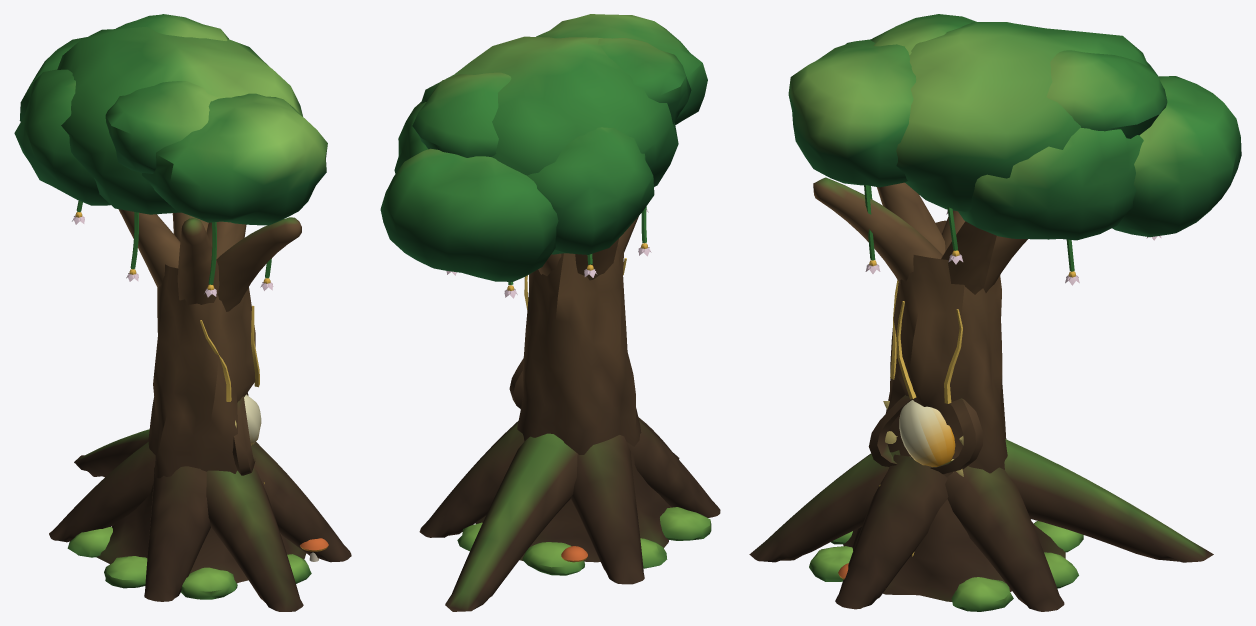
The model's file is Heartroot.fbx.
3 views of the same model, side by side, from view 1: azimuth 30°, elevation 25°; view 2: azimuth 150°, elevation 25°; view 3: azimuth 270°, elevation 25° (orthographic). The views are drawn at different scales.
Visible parts, largest first — view 1: Trunk, Canopy, HeartCore; view 2: Canopy, Trunk; view 3: Canopy, Trunk, HeartCore.
Part boxes in pixels (box(x1,y1,x2,y2)): Trunk: box(49, 209, 351, 611); Canopy: box(14, 14, 327, 297); HeartCore: box(235, 394, 261, 445); Canopy: box(380, 14, 707, 298); Trunk: box(419, 216, 720, 611); Canopy: box(788, 14, 1241, 285); Trunk: box(749, 177, 1213, 611); HeartCore: box(883, 400, 963, 476).
Bounding box in the file's own units: 1.76 × 3.39 × 2.91.
